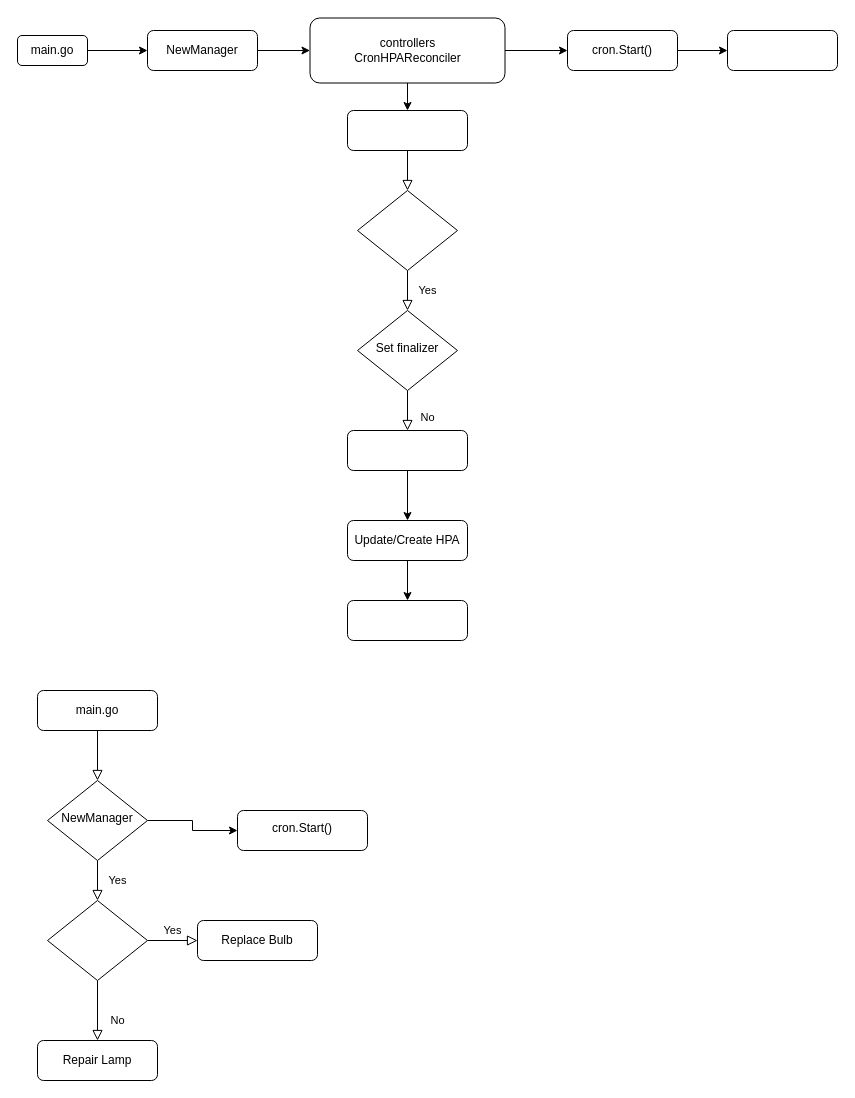
Some shapes in this 855 by 1098 pixel diagram are drawn without their labels. Each missing label, with the centre of its shape:
Bulb burned out?: (x=97, y=940)
Get CronHPA: (x=407, y=230)
Get HPA: (x=407, y=450)
Manager.Start: (x=782, y=50)
Reconcile: (x=407, y=130)
UpdateSchedules: (x=407, y=620)
